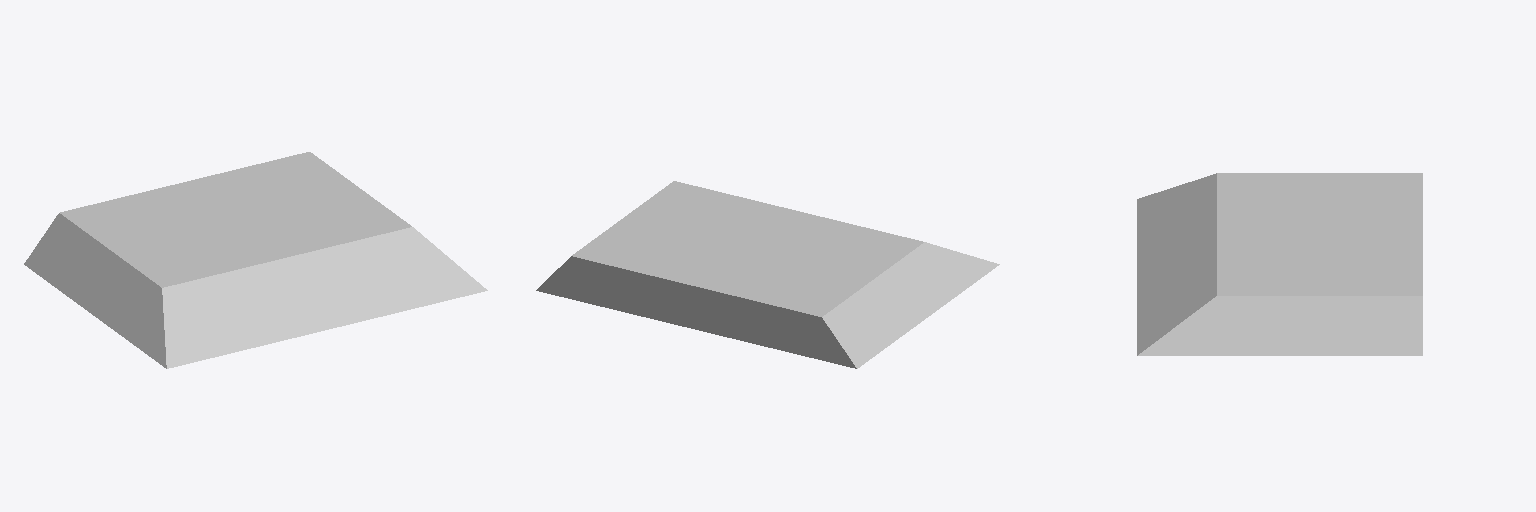
File: original-175.obj
3 views of the same model, side by side, from view 1: azimuth 30°, elevation 25°; view 2: azimuth 150°, elevation 25°; view 3: azimuth 270°, elevation 25° (orthographic).
Parts seen in each view (by area): view 1: mesh118/mesh118-geometry#mesh118-geometry; view 2: mesh118/mesh118-geometry#mesh118-geometry; view 3: mesh118/mesh118-geometry#mesh118-geometry.
Boxes of the visible parts, x1=… form: mesh118/mesh118-geometry#mesh118-geometry: x1=24, y1=152, x2=487, y2=368; mesh118/mesh118-geometry#mesh118-geometry: x1=536, y1=181, x2=999, y2=368; mesh118/mesh118-geometry#mesh118-geometry: x1=1137, y1=173, x2=1422, y2=355.
Bounding box in the file's own units: 0.0881 × 0.0113 × 0.0679.